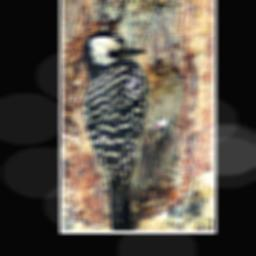Woodpecker: (77, 24, 181, 233)
